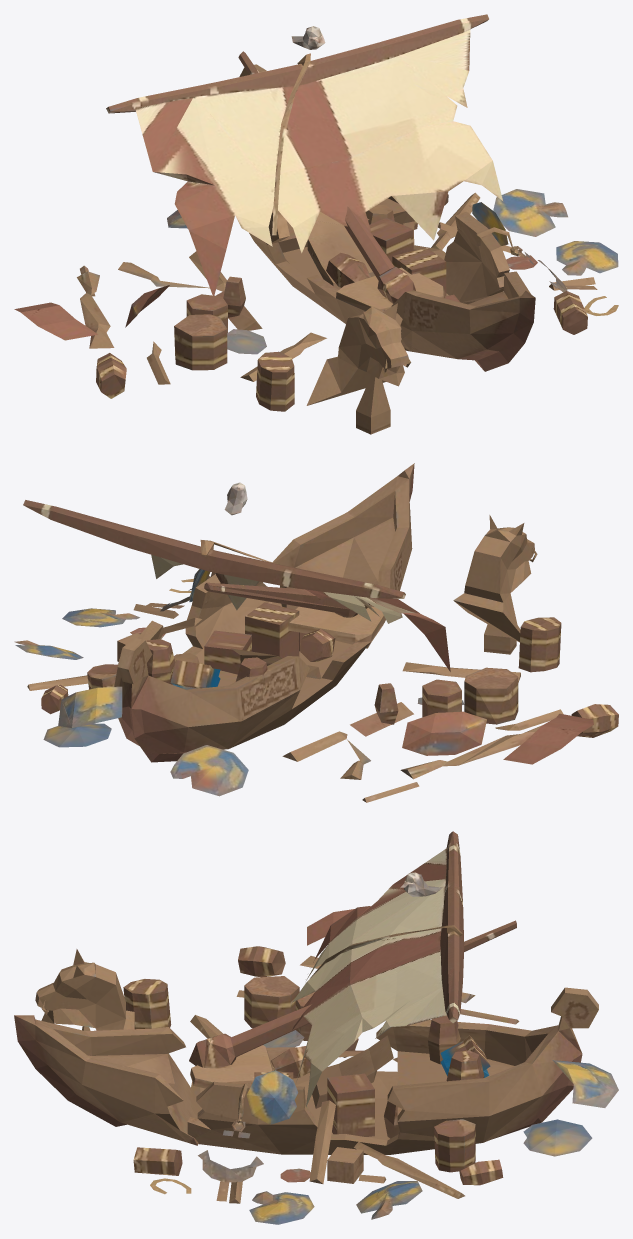
The model's file is wreck.glb.
3 renders of one model, top to bottom at view 1: azimuth 30°, elevation 25°; view 2: azimuth 150°, elevation 25°; view 3: azimuth 270°, elevation 25°, orthographic.
Parts seen in each view (by area): view 1: tripo_node_02069fc2-4d46-4e05-8bad-de44450a1c3f; view 2: tripo_node_02069fc2-4d46-4e05-8bad-de44450a1c3f; view 3: tripo_node_02069fc2-4d46-4e05-8bad-de44450a1c3f.
Part boxes in pixels (<box>): tripo_node_02069fc2-4d46-4e05-8bad-de44450a1c3f: <box>14,14,618,434</box>; tripo_node_02069fc2-4d46-4e05-8bad-de44450a1c3f: <box>14,463,618,802</box>; tripo_node_02069fc2-4d46-4e05-8bad-de44450a1c3f: <box>14,831,618,1224</box>.
Size of the model in its own units: 0.998 by 0.4434 by 0.9395.
Materials: 1 (1 with a texture image).
